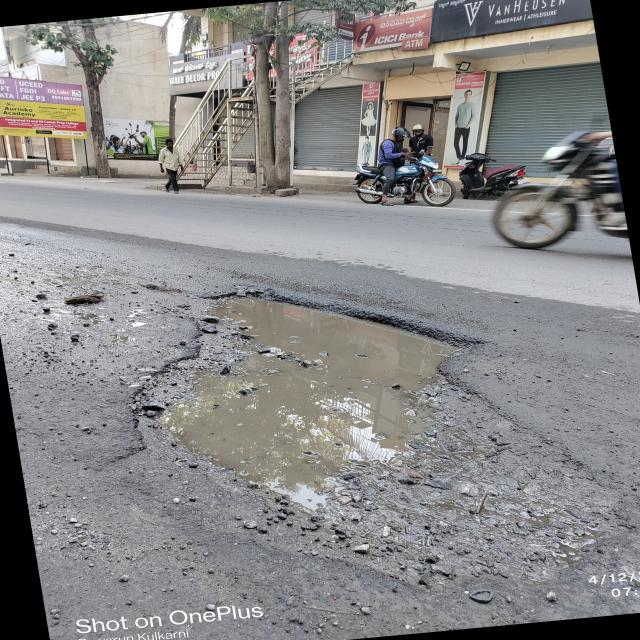Puddle pothole: (112, 284, 498, 483)
